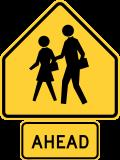School Ahead: (14, 11, 103, 152)
